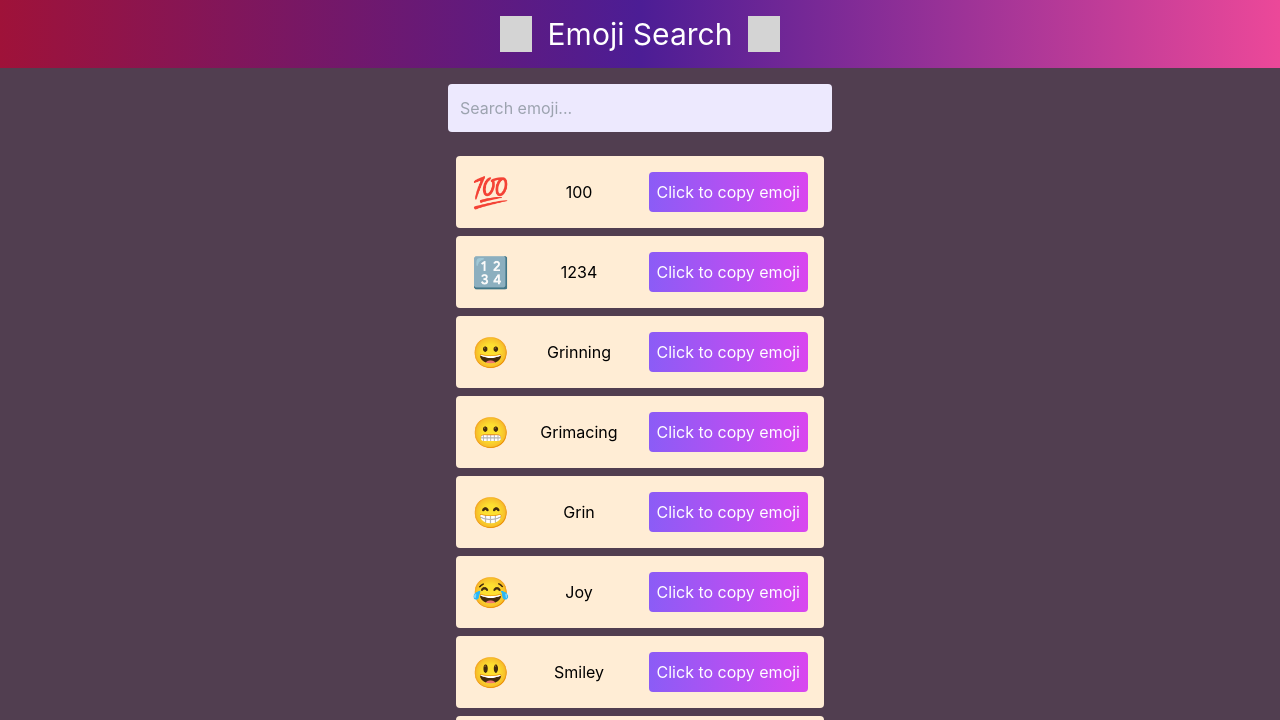
Emoji Search Tests › when type on the search bar, it should return 14 element
The width and height of the screenshot is (1280, 720).
Type "face smiley" into the field with placeholder "Search emoji..." at (640, 108), box [448,84,832,132]
(page scrolled)
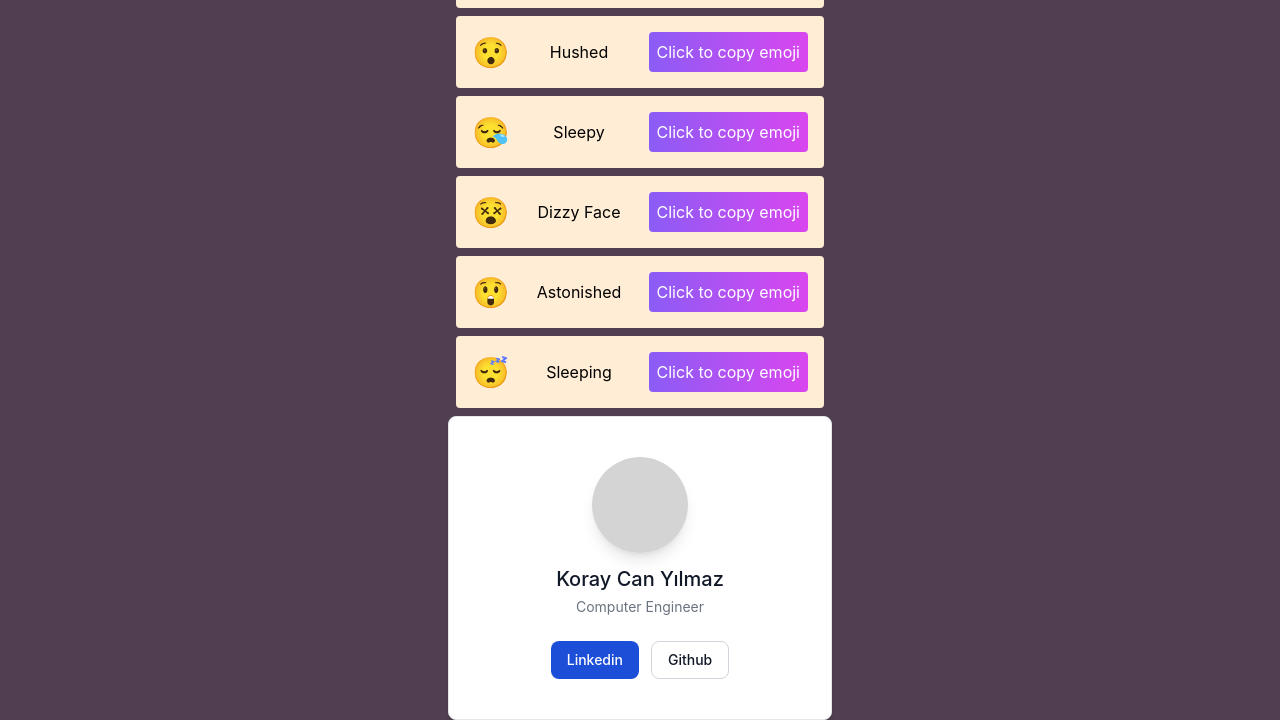
Now the heading "Hushed" is shown, box [550,40,608,64]
Now the heading "Sleepy" is shown, box [553,120,605,144]
Now the heading "Dizzy Face" is shown, box [538,200,621,224]
